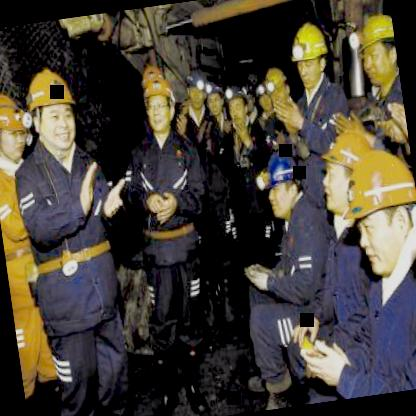helmet: (332, 135, 416, 271), (22, 60, 84, 158), (318, 132, 375, 216), (352, 6, 400, 86), (286, 18, 334, 92), (261, 149, 306, 213), (138, 66, 178, 136), (0, 87, 31, 163), (254, 63, 288, 110), (180, 66, 208, 112), (224, 86, 252, 131), (203, 76, 228, 116)
